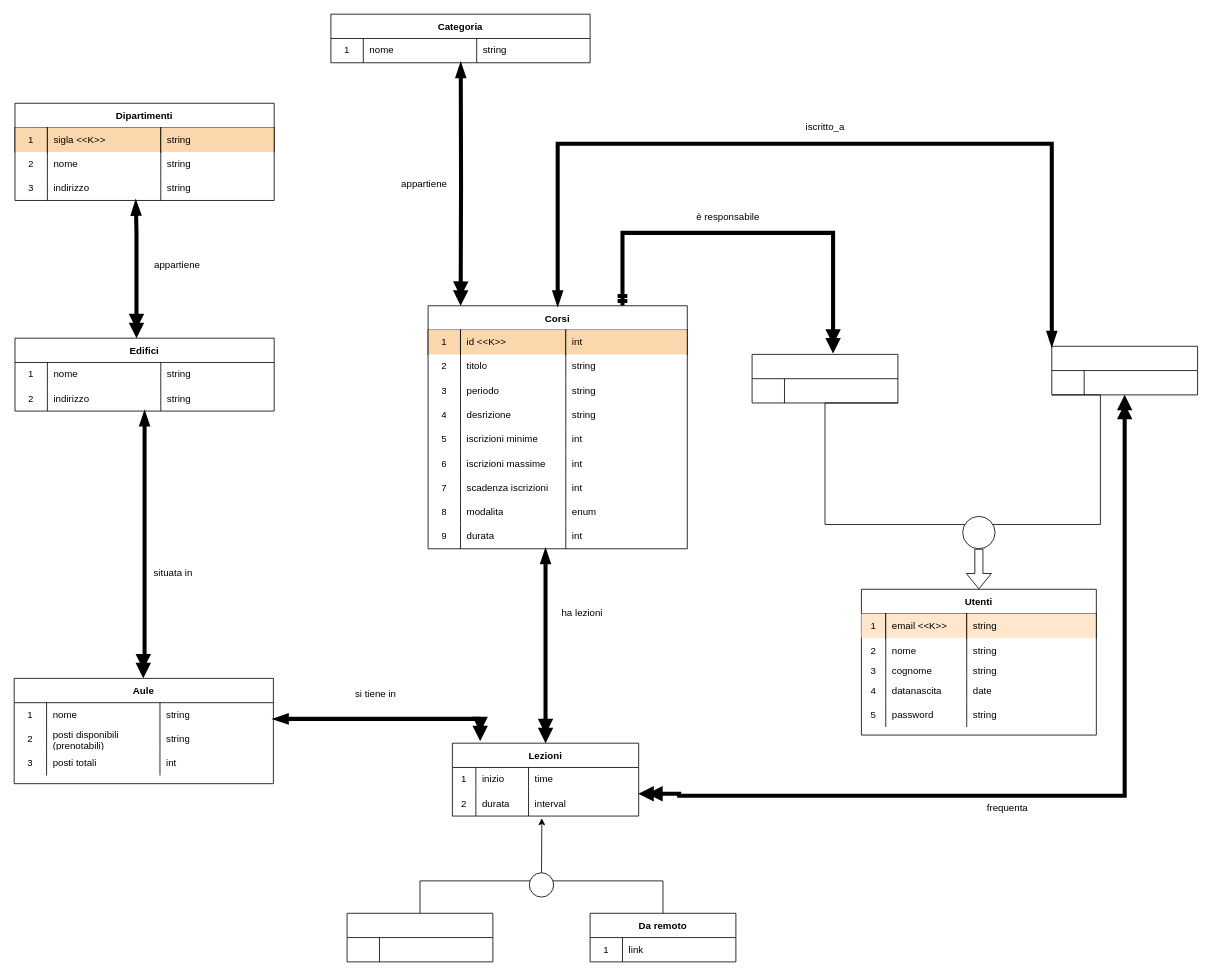
Some shapes in this 1212 by 976 pixel diagram are drawn without their labels. Each missing label, with the centre of its shape:
"Docenti" goes at point (824, 378).
"In presenza" goes at point (419, 937).
"Studenti" goes at point (1124, 370).
